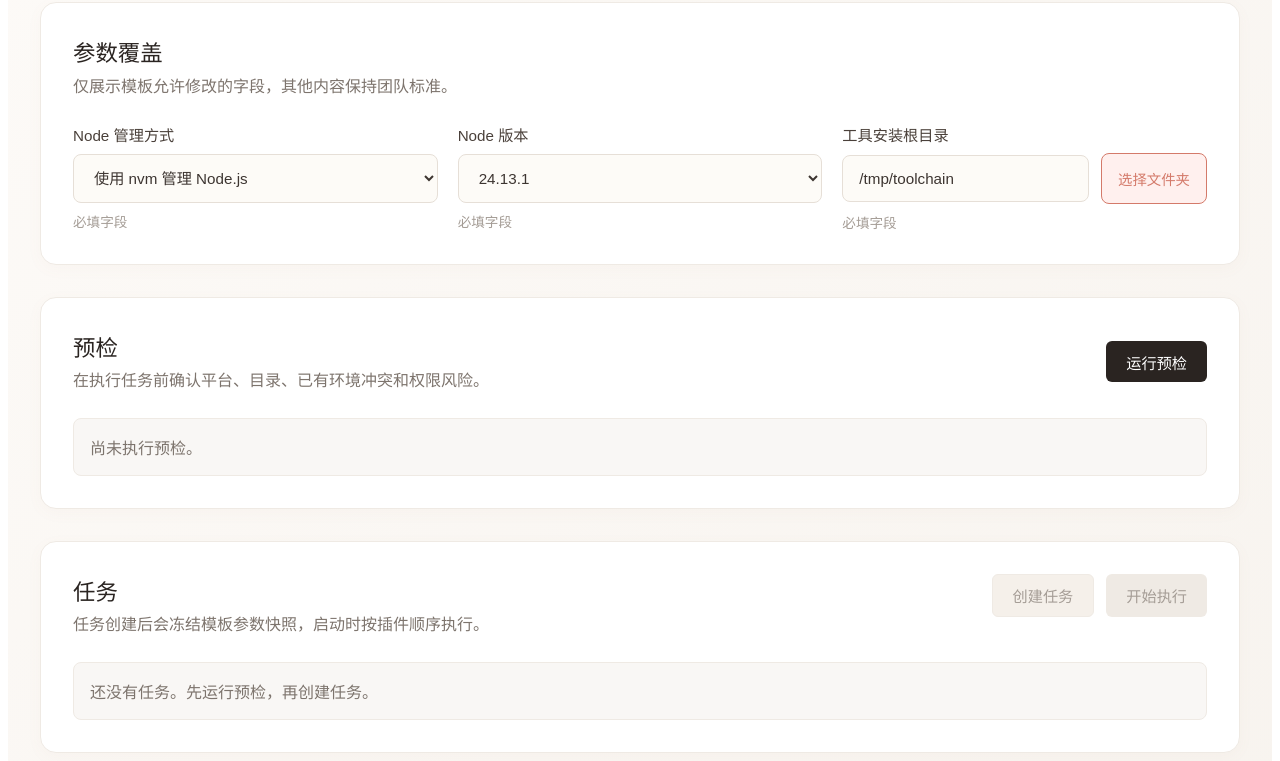
Test: App › previews and applies env changes from task result
The image size is (1280, 761).
(page scrolled)
Step 1. Click the button "运行预检" → (1157, 362), box [1106, 341, 1207, 382]
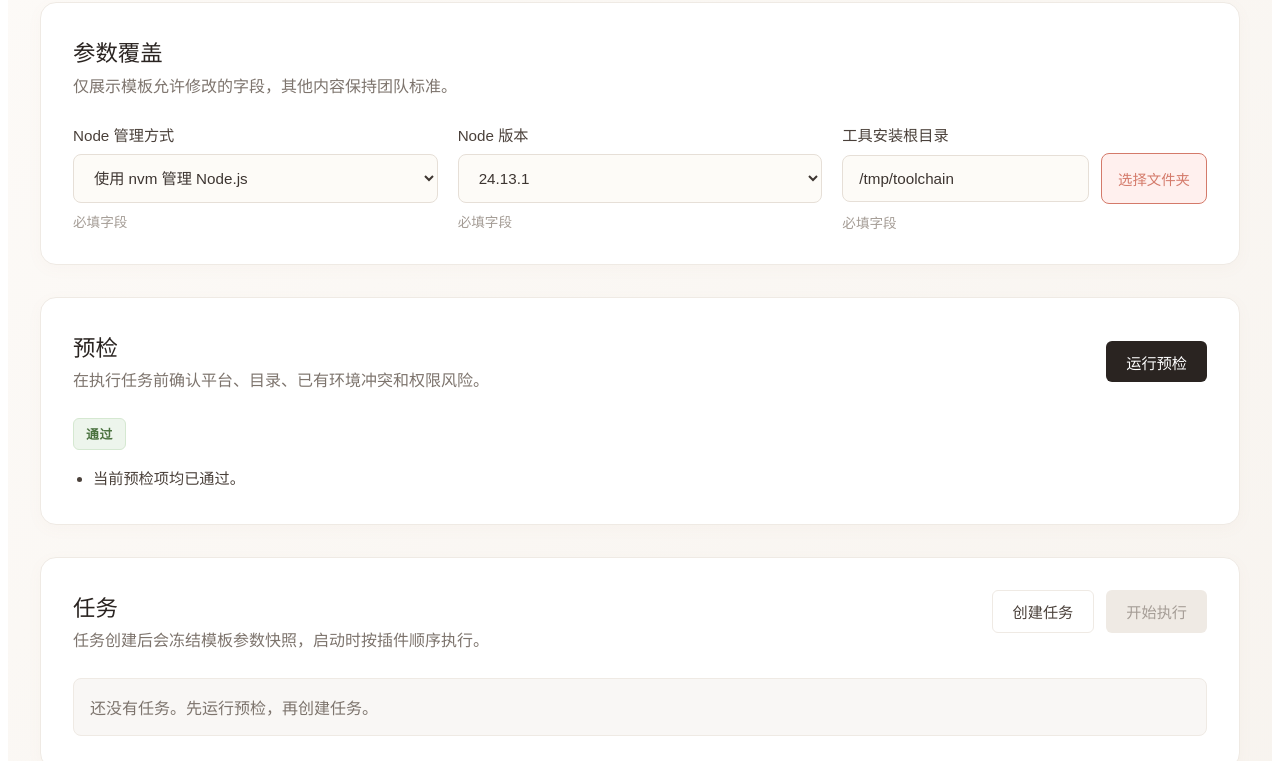
Expected: the list item "当前预检项均已通过。" is shown, [93, 470, 245, 487]
Expected: the button "创建任务" is enabled
Step 2. Click the button "创建任务" → (1043, 611), box [992, 590, 1094, 633]
(page scrolled)
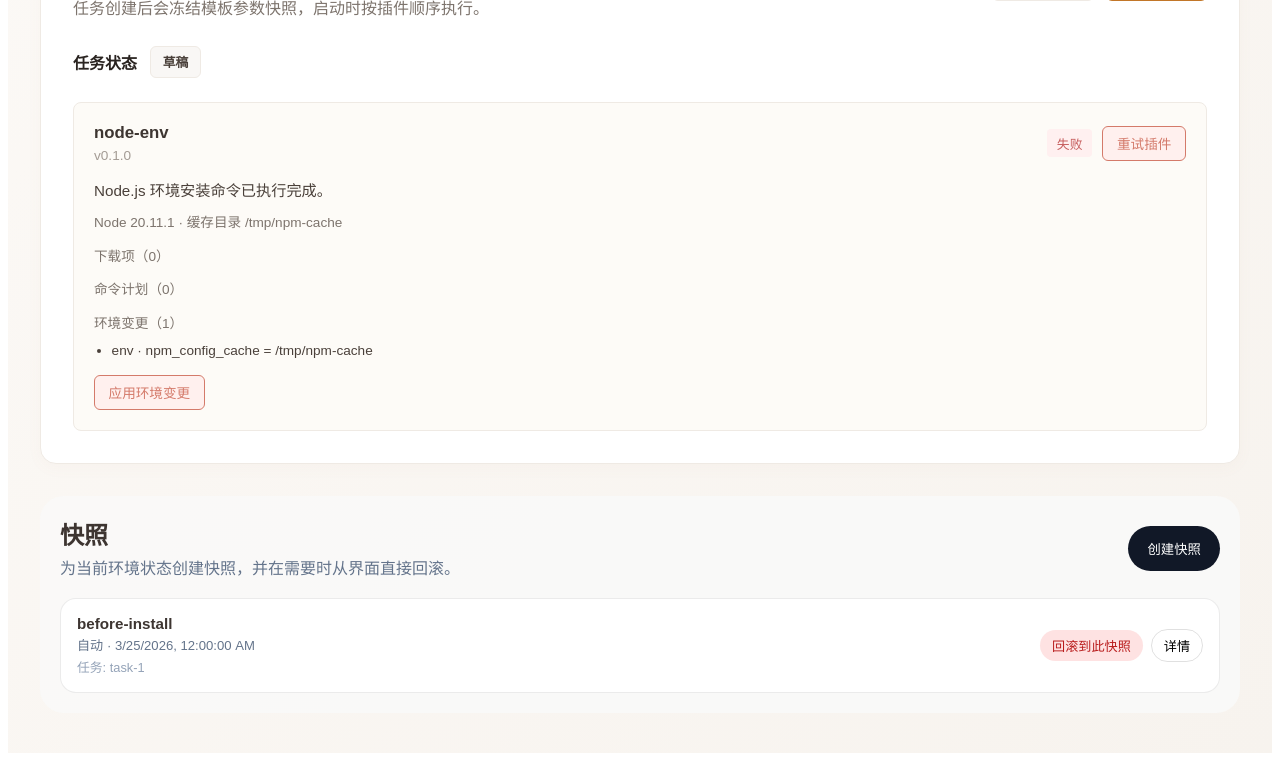
Expected: the text "任务状态" is shown, [73, 50, 137, 74]
Step 3. Click the button "应用环境变更" → (149, 392), box [94, 375, 205, 410]
(page scrolled)
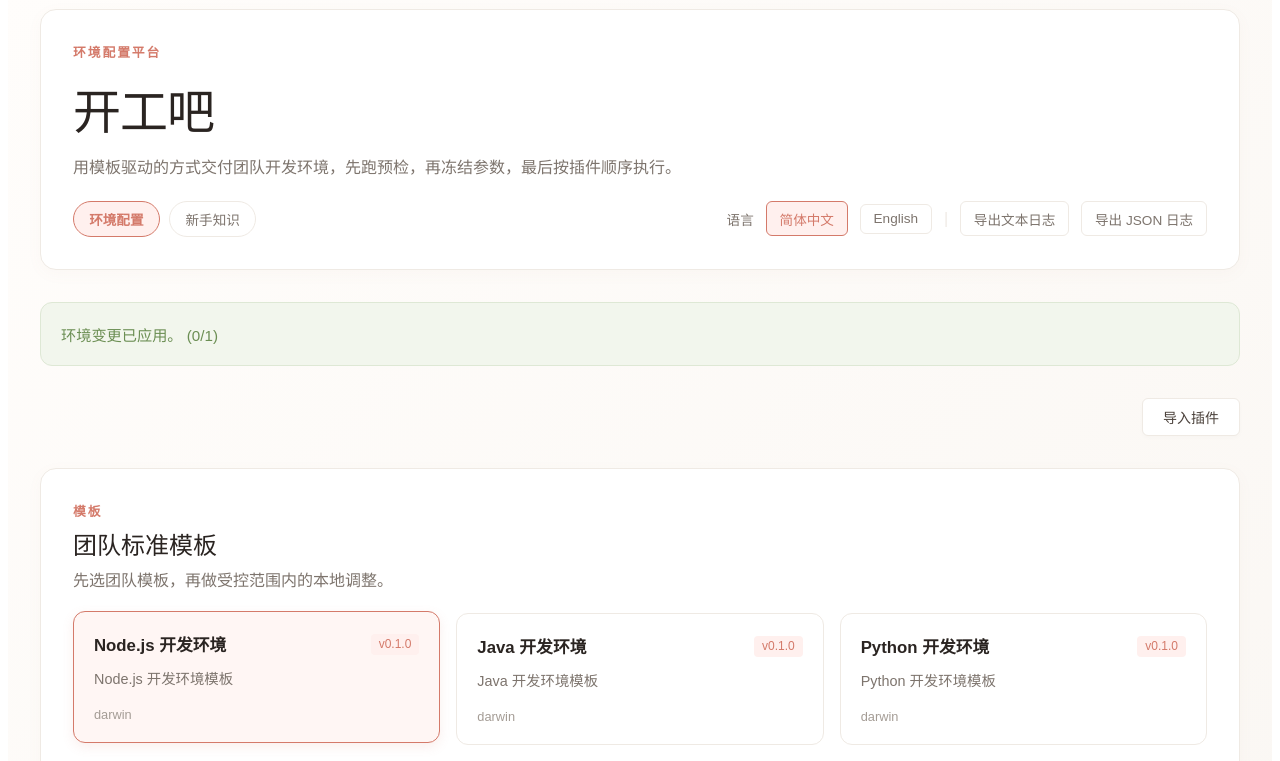
Expected: the text "环境变更已应用。 (0/1)" is shown, [40, 302, 1240, 366]
